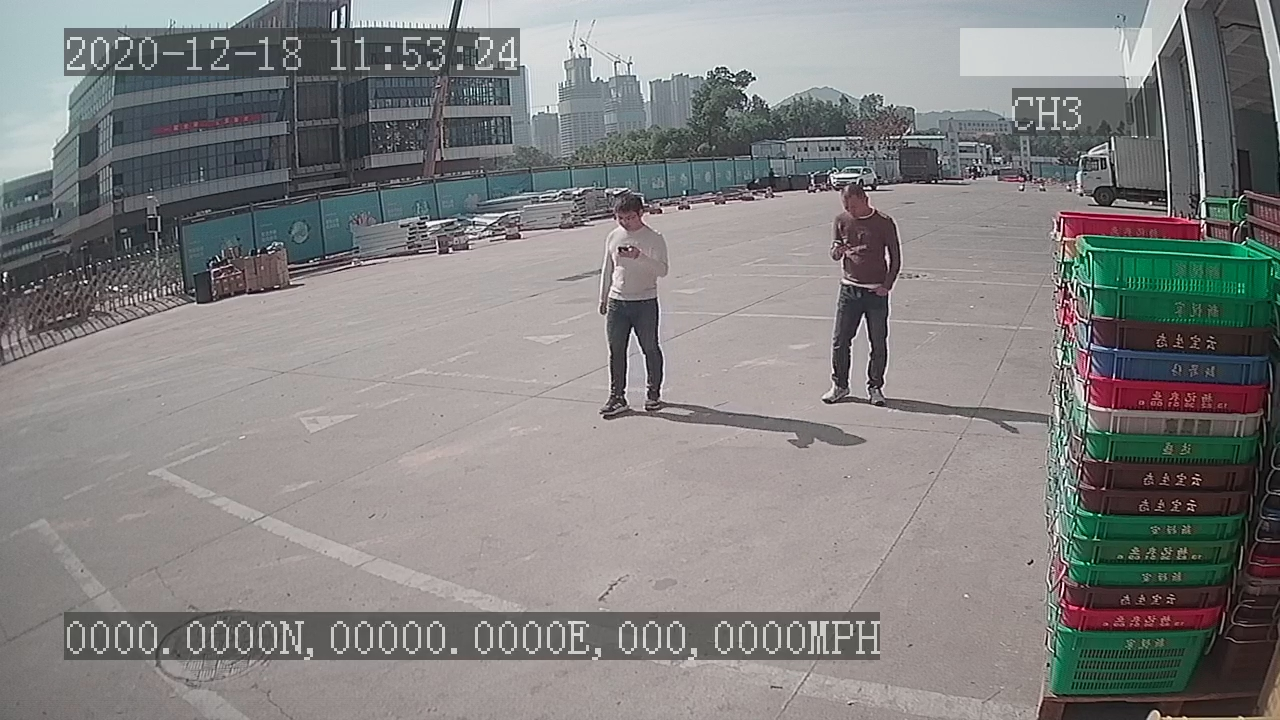person: (811, 179, 908, 411), (588, 188, 674, 427)
